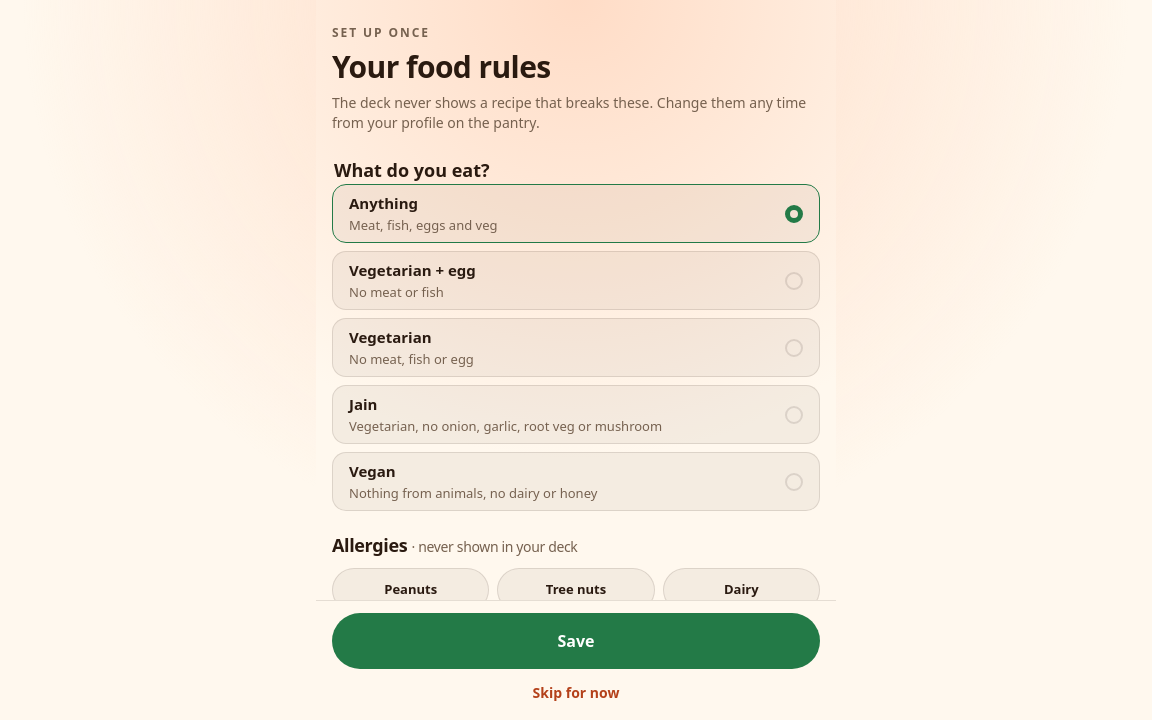
Test: Jain saves a veg diet with the Jain flag, and allergies are counted
Expected: the heading "Your food rules" is shown, [332,46,551,87]
Click the radio button labelled "Jain Vegetarian, no onion, garlic, root veg or mushroom". click: (576, 415)
box: [332,385,820,444]
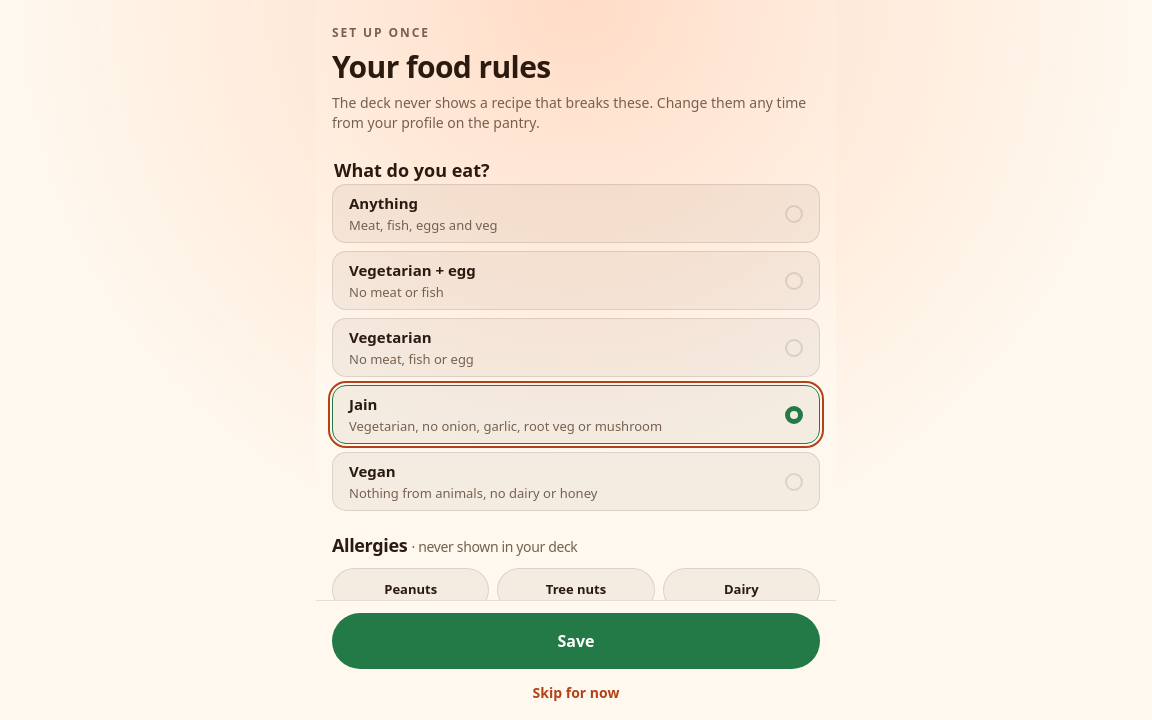
Click the button "Peanuts". click: (411, 590)
box: [332,568,489,612]
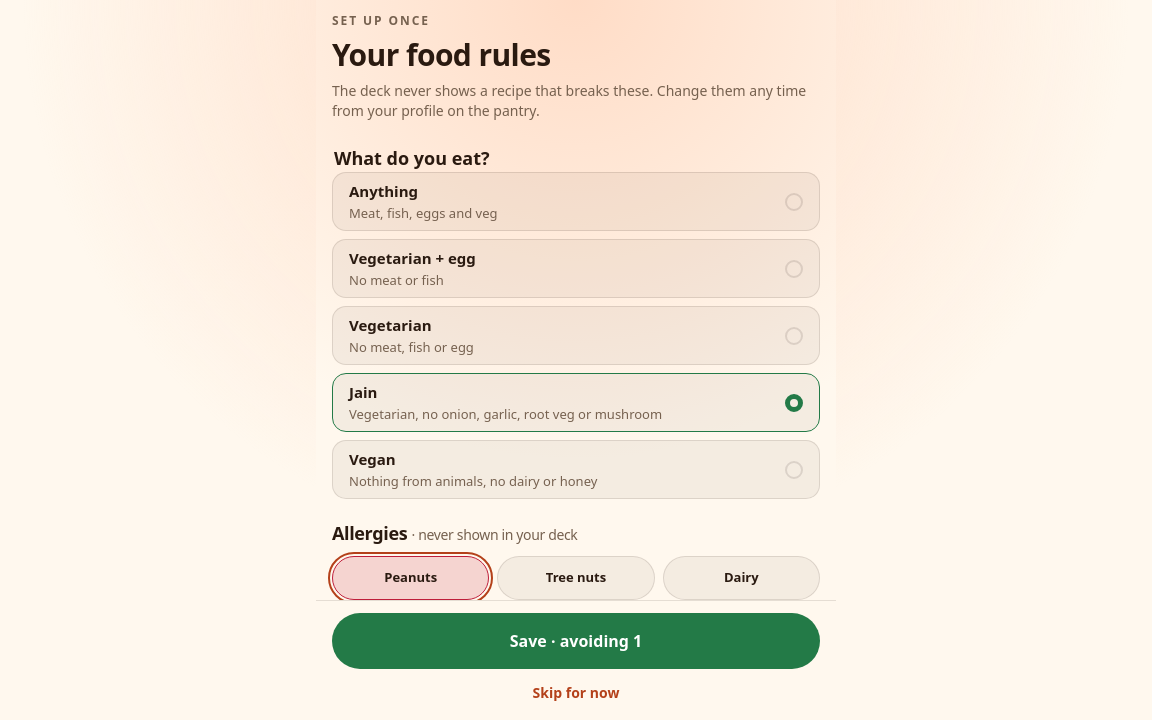
Click the button "Tree nuts". click: (576, 578)
box: [497,556,655,600]
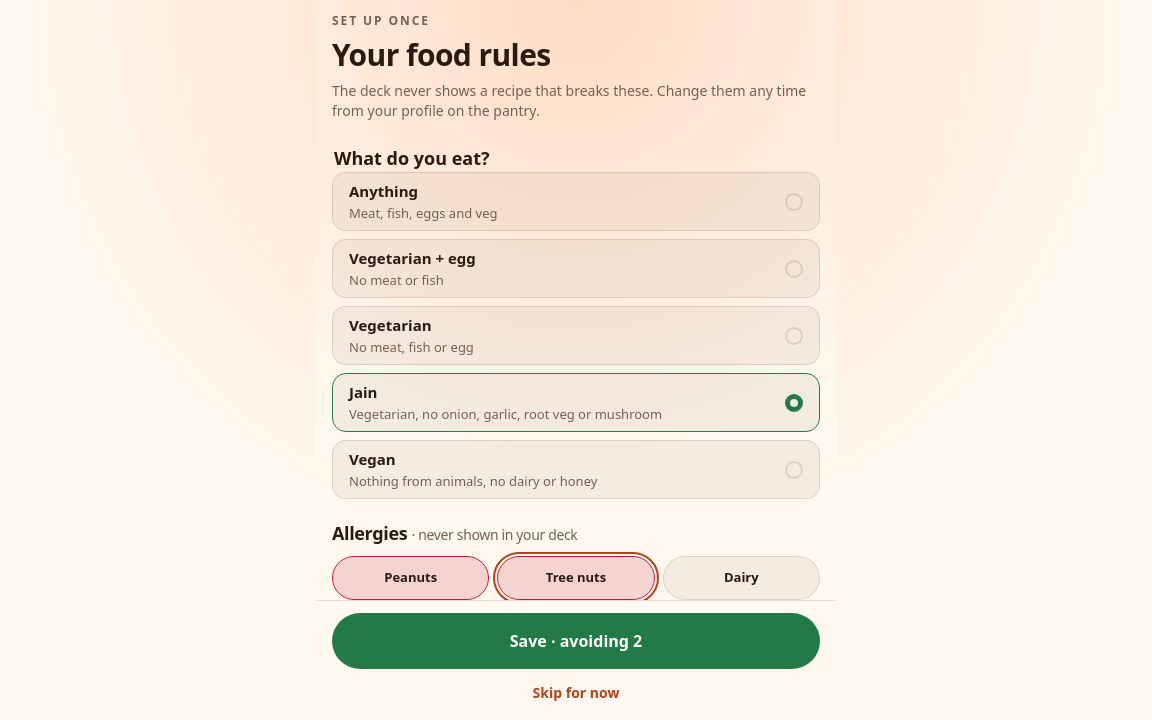
Expected: the button "Tree nuts" is pressed, [497,556,655,600]
Click the button "Save · avoiding 2". click: (576, 641)
box: [332,613,820,669]
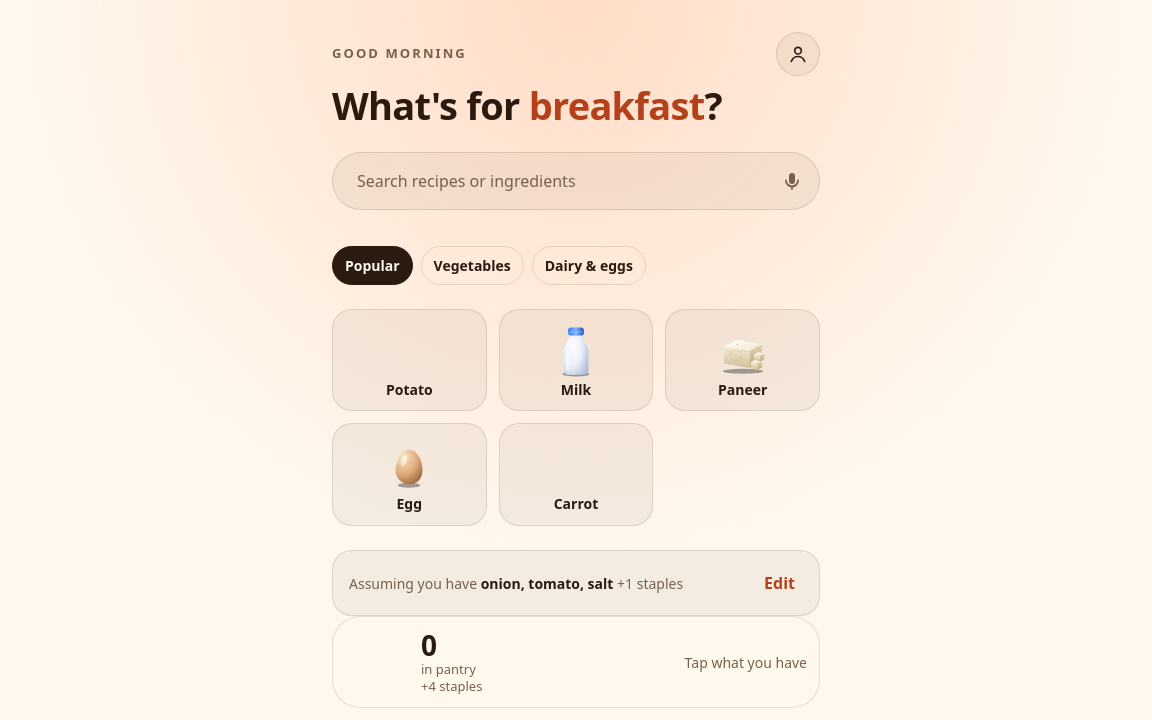
Expected: the search field labelled "Search recipes or ingredients" is shown, [332,152,820,210]
